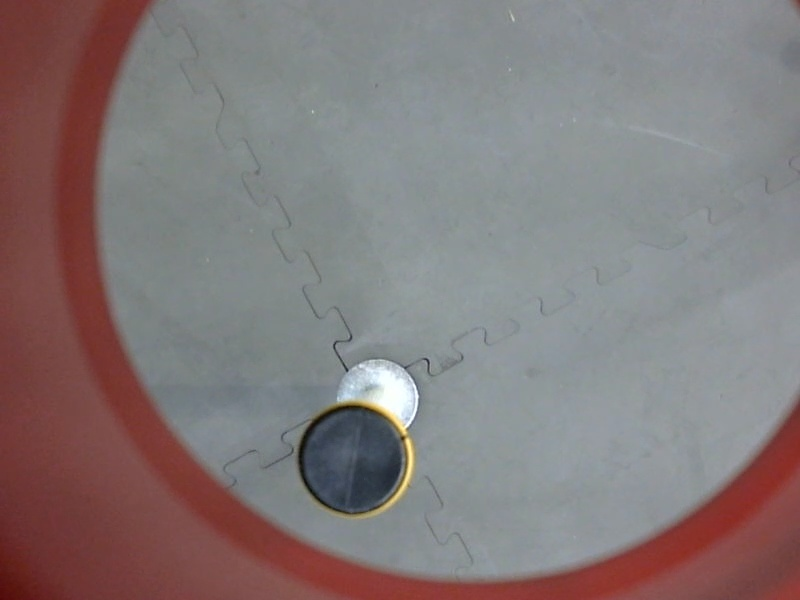tip: (290, 394, 424, 527)
